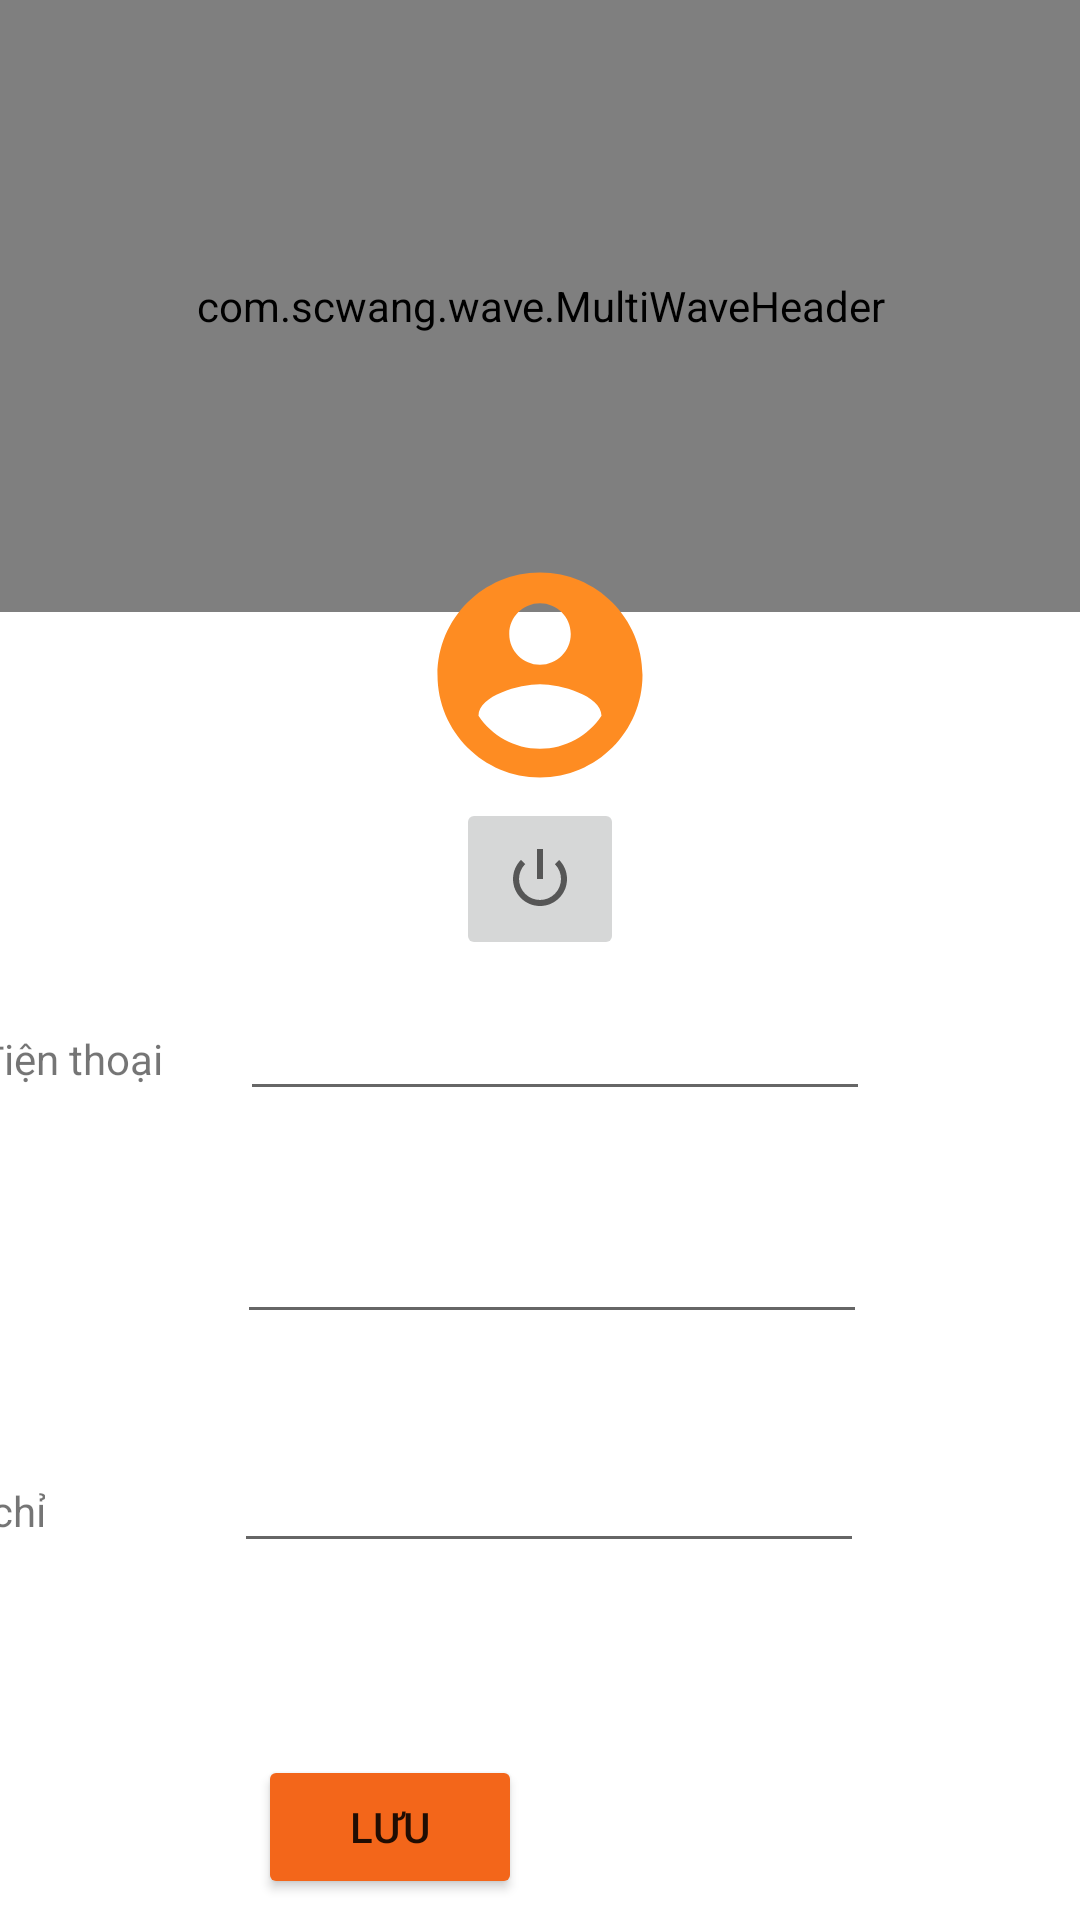

Icon bounding boxes for this 1080 × 1920 phone screenshot, format (x1, y1, x2, y2):
lock power off: (468, 816, 612, 942)
